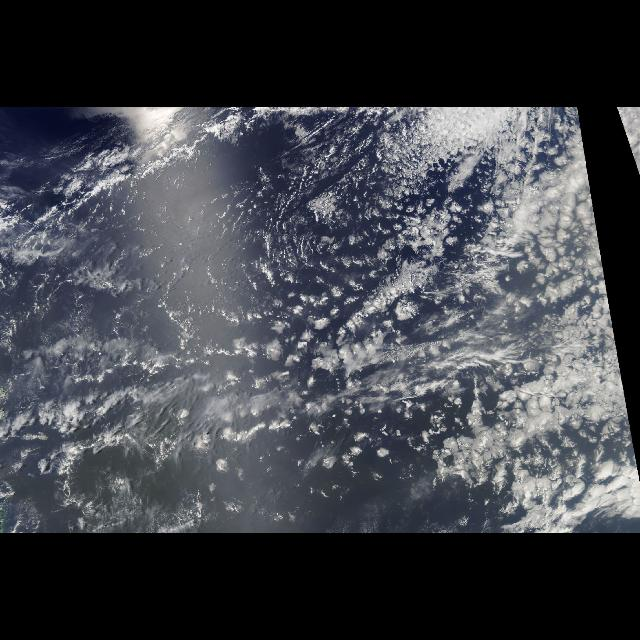Flower: (36, 218, 450, 486), (468, 122, 640, 534), (620, 122, 640, 180)
